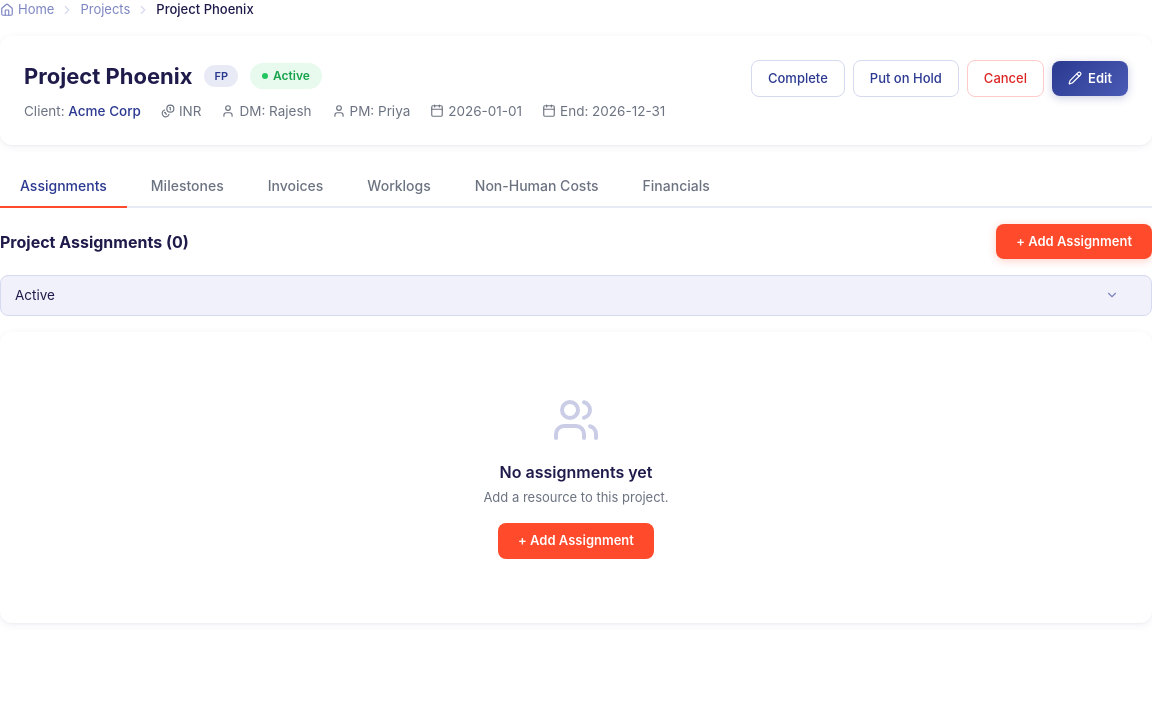
it: ProjectDetail › shows confirmation dialog on transition click
The image size is (1152, 720).
Click the button "Complete" at (798, 78), box x1=751 y1=60 x2=845 y2=97
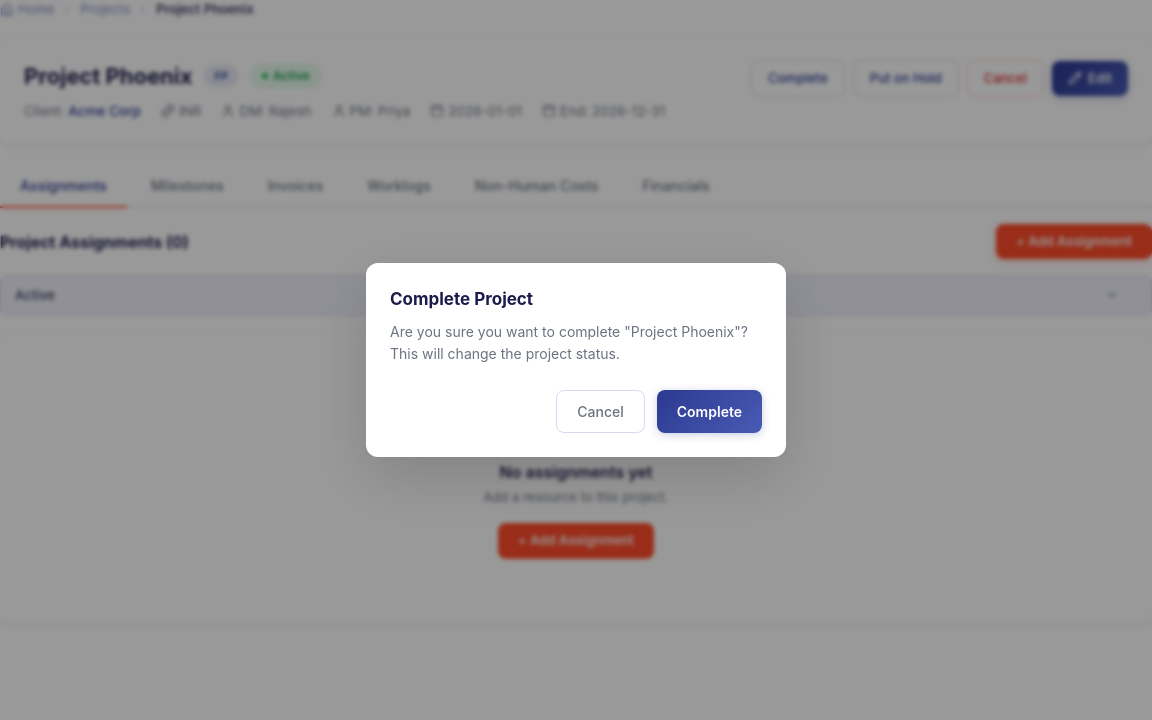
Now the text "Are you sure" is shown, box x1=390 y1=322 x2=748 y2=362
